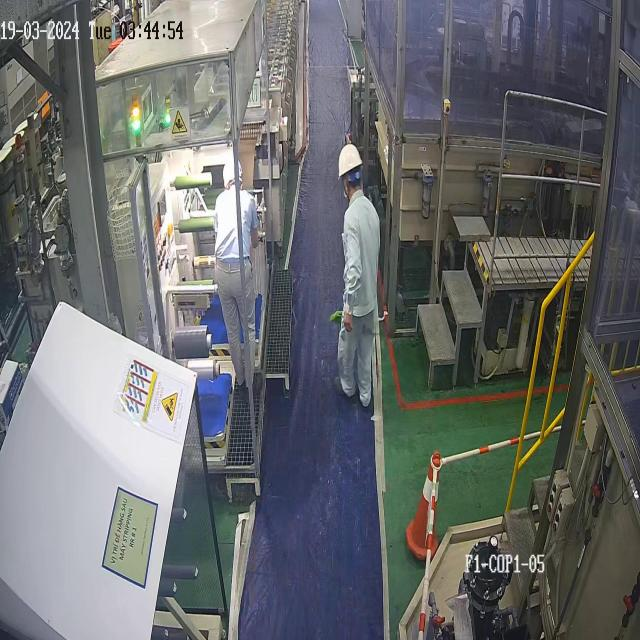Person: (333, 142, 381, 407), (213, 158, 259, 390)
